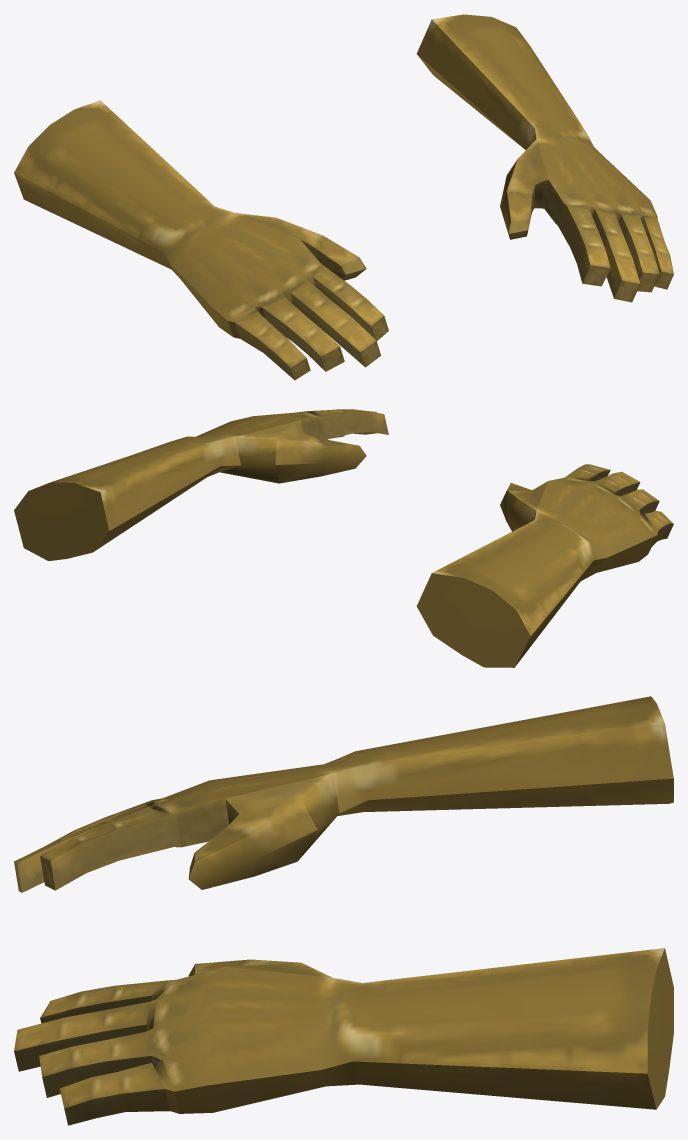
The model's file is GoldenHAND.fbx.
The picture shows the model from 3 angles, top to bottom: view 1: azimuth 30°, elevation 25°; view 2: azimuth 150°, elevation 25°; view 3: azimuth 270°, elevation 25°; orthographic projection. The views are drawn at different scales.
Visible parts, largest first — view 1: newHand.002; view 2: newHand.002; view 3: newHand.002.
Part boxes in pixels (<box>): newHand.002: <box>14,14,673,380</box>; newHand.002: <box>14,409,673,667</box>; newHand.002: <box>14,696,673,1125</box>.
Size of the model in its own units: 908 by 198 by 724.
